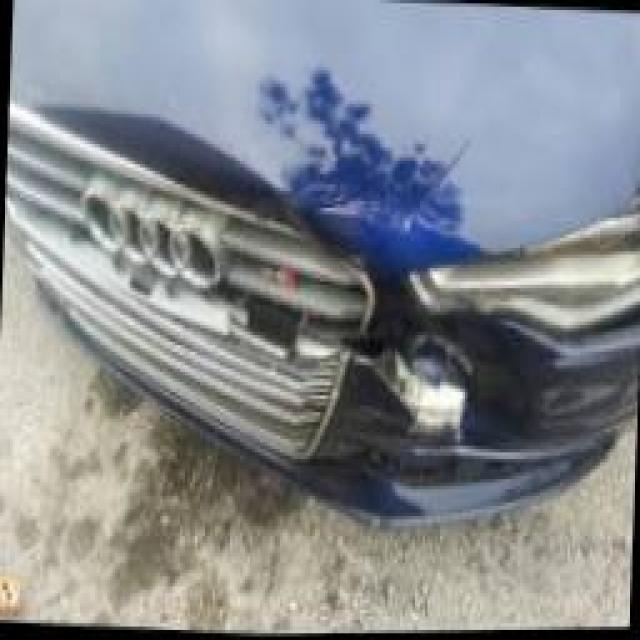Bonnet: (13, 43, 557, 274)
Bumper: (134, 284, 639, 531)
